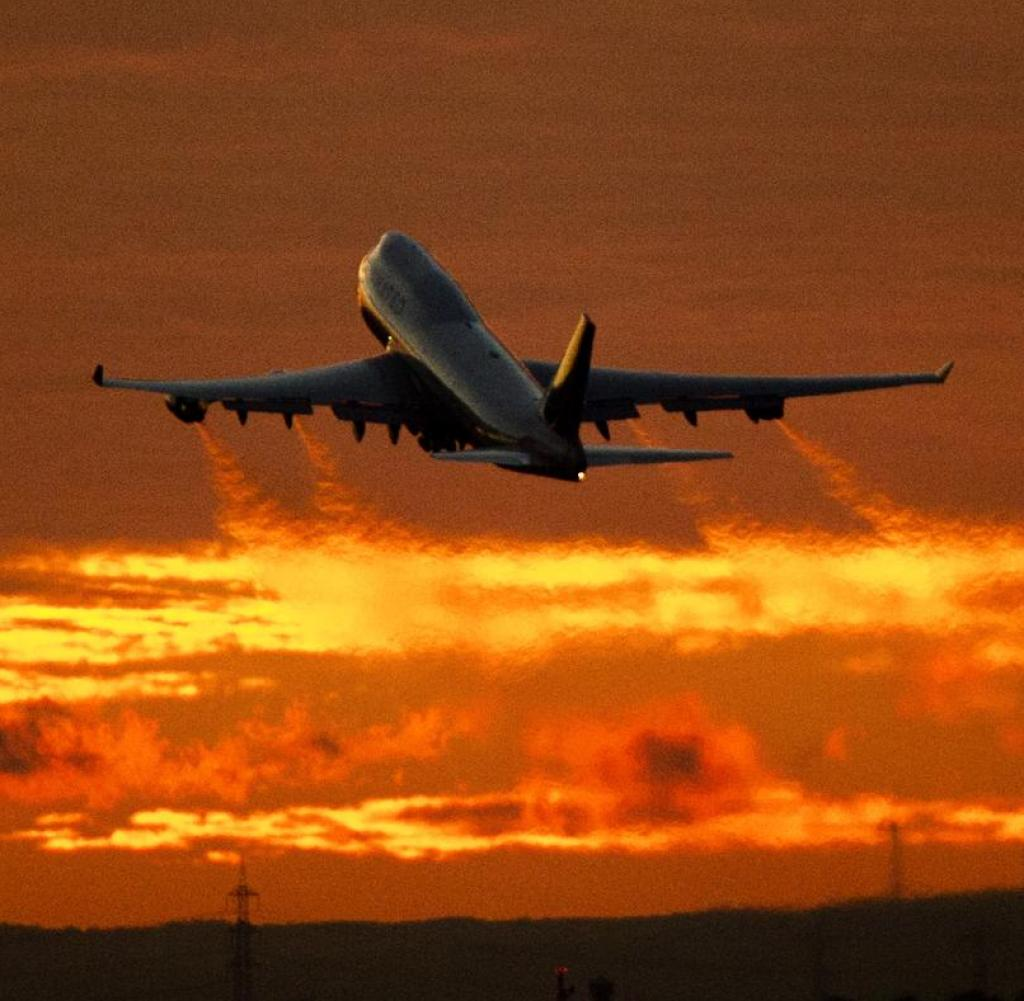aeroplane: (95, 202, 959, 502)
